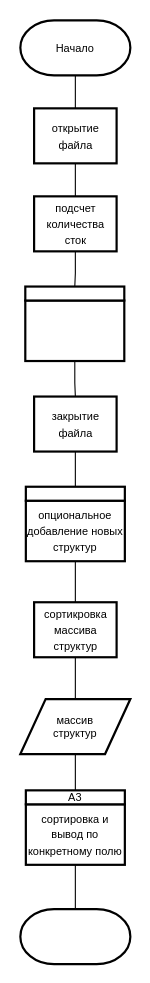
This 150x983 diagram has some shape labels left out. The shapes that lost their labels are listed below. From the top down, each one's centre as x and y in pixels, then its label:
(74,293): А1
(74,330): чтение из файла в массив структур
(74,493): А2
(75,936): Конец
